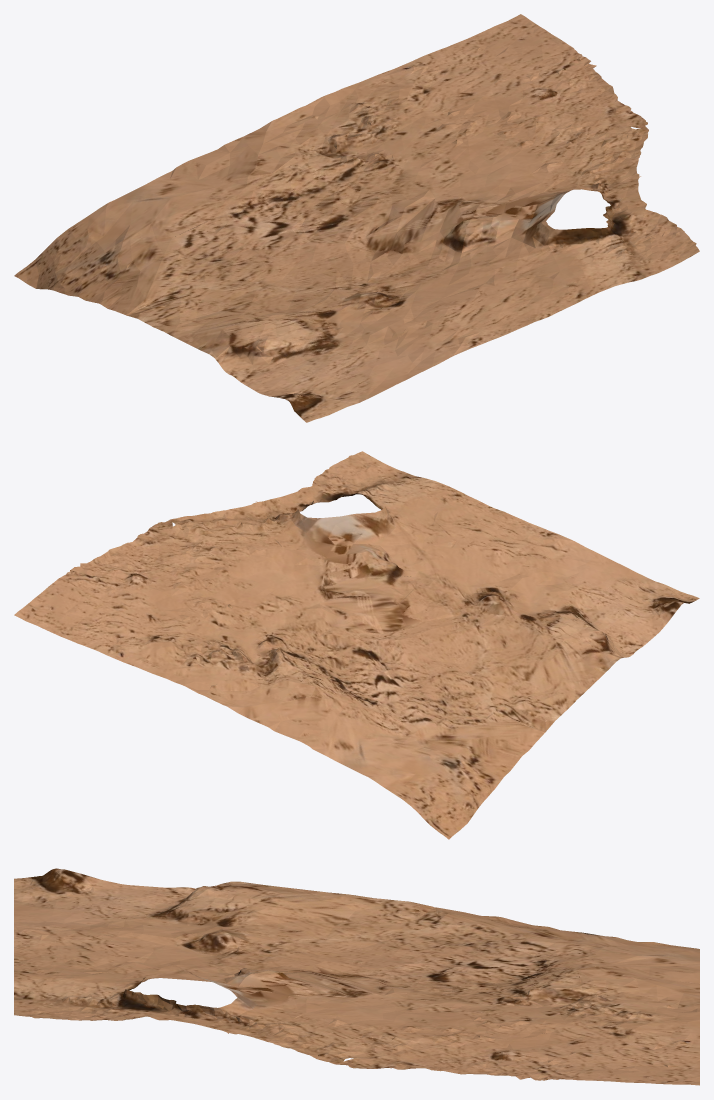
3 views of the same model, one above another, from view 1: azimuth 30°, elevation 25°; view 2: azimuth 150°, elevation 25°; view 3: azimuth 270°, elevation 25° (orthographic). The views are drawn at different scales.
Bounding box in the file's own units: 4.18 × 1.12 × 4.18.
Materials: 2 (2 with a texture image).
